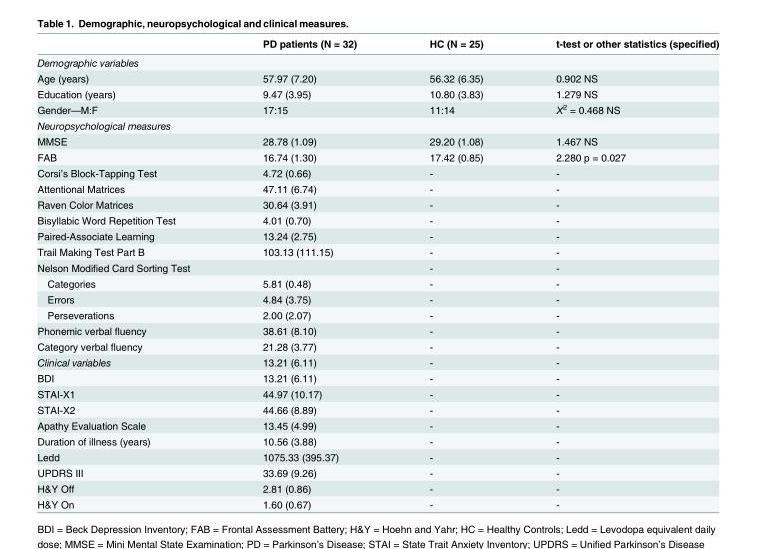table: (36, 37, 718, 509)
table column: (518, 37, 718, 509), (36, 37, 225, 509), (225, 37, 392, 509), (392, 37, 518, 509)
table column header: (36, 37, 718, 52)
table projected row header: (36, 52, 718, 70), (36, 117, 718, 133)
table row: (36, 52, 718, 70), (36, 100, 718, 117), (36, 117, 718, 133), (36, 148, 718, 164), (36, 164, 718, 180), (36, 180, 718, 196), (36, 196, 718, 212), (36, 227, 718, 243), (36, 243, 718, 259), (36, 259, 718, 275), (36, 290, 718, 306), (36, 306, 718, 322), (36, 322, 718, 338), (36, 338, 718, 354), (36, 354, 718, 370), (36, 385, 718, 401), (36, 401, 718, 417), (36, 417, 718, 433), (36, 448, 718, 464), (36, 464, 718, 480), (36, 480, 718, 496), (36, 37, 718, 52), (36, 70, 718, 85), (36, 85, 718, 100), (36, 133, 718, 148), (36, 212, 718, 227), (36, 275, 718, 290), (36, 370, 718, 385), (36, 433, 718, 448), (36, 496, 718, 509)
